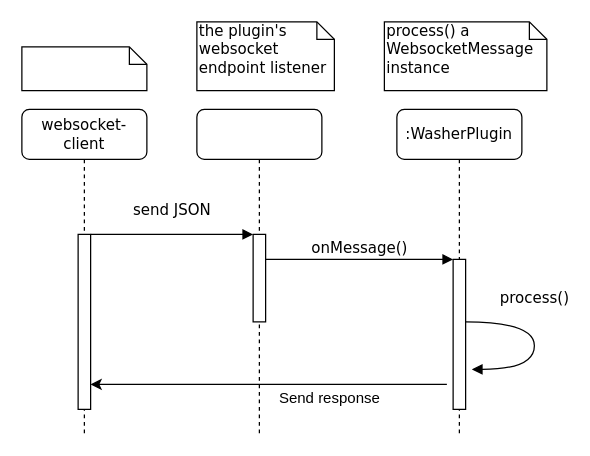
Some shapes in this 590 by 456 pixel diagram are drawn without their labels. Here are the shapes that lost their labels. From the top down, the centre of each, then its label:
At pixel 84 68: "e.g. Python script".
At pixel 259 271: "WSEndpoint".
